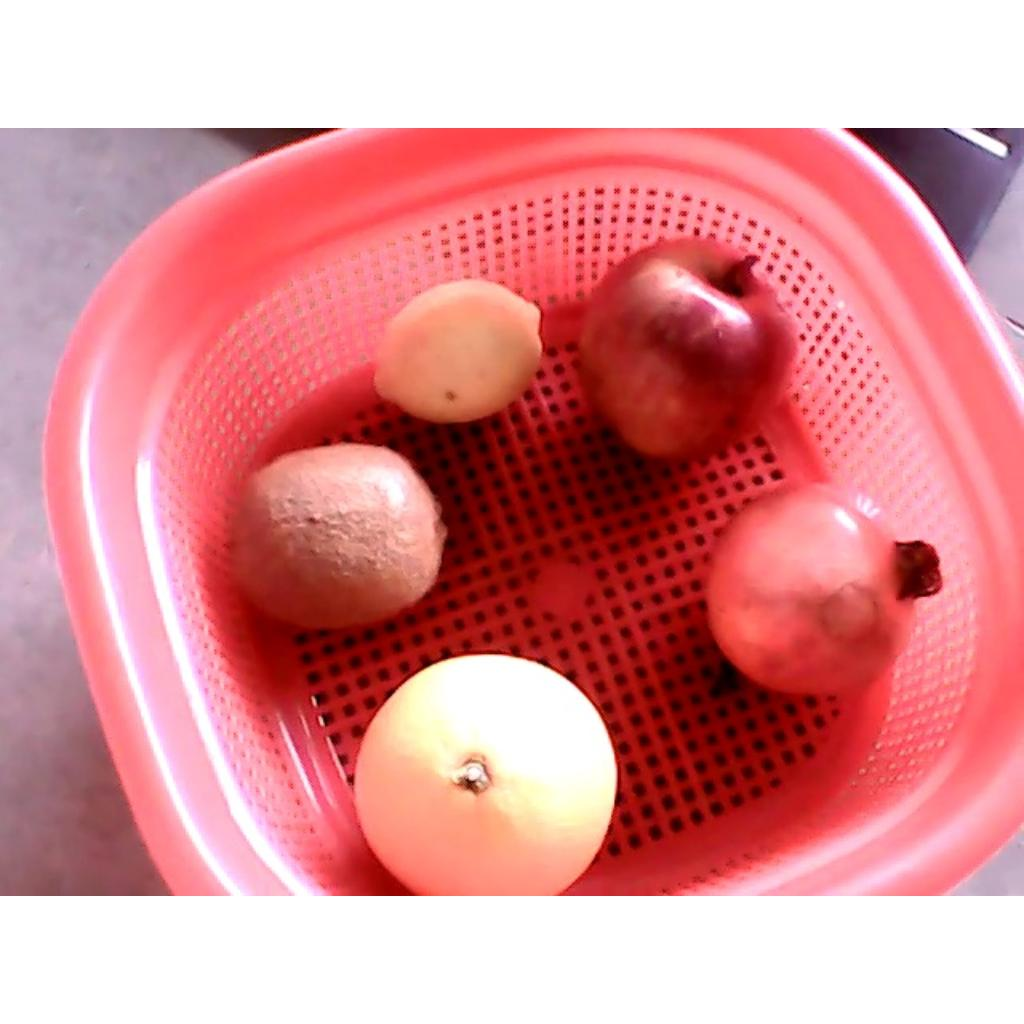apple: (577, 236, 805, 460)
kiwi: (223, 444, 446, 629)
lemon: (372, 278, 543, 422)
orange: (354, 653, 618, 894)
pomegranate: (706, 477, 941, 697)
